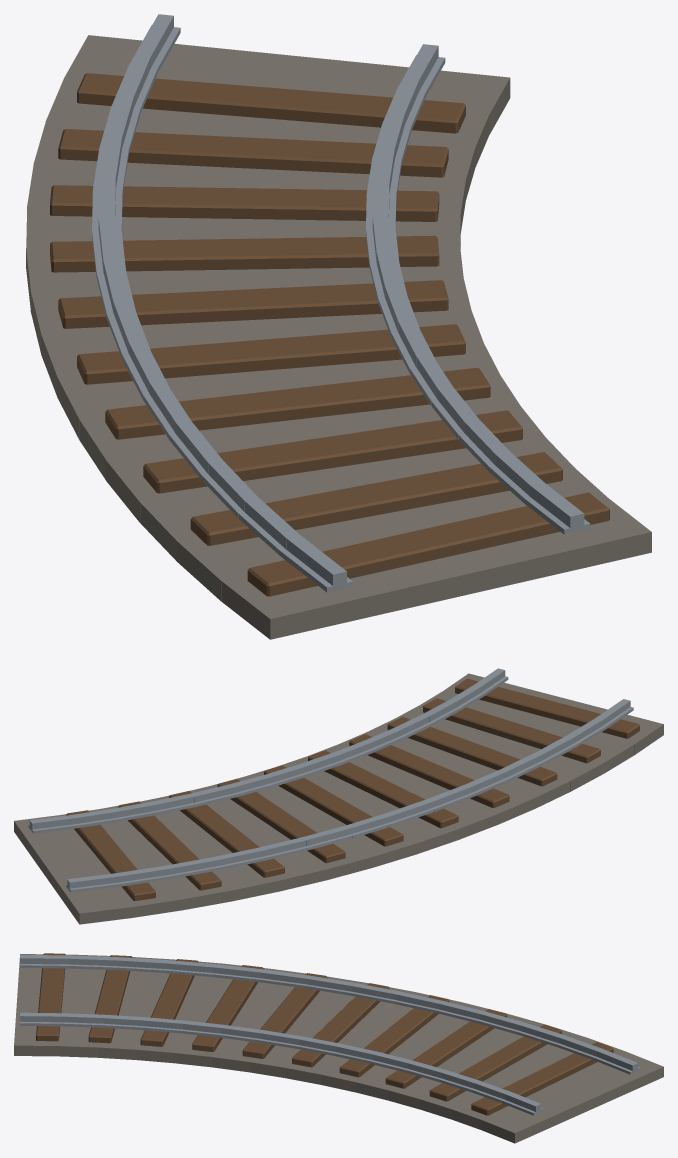
The model's file is rail_virage_45.glb.
3 views of the same model, one above another, from view 1: azimuth 30°, elevation 25°; view 2: azimuth 150°, elevation 25°; view 3: azimuth 270°, elevation 25° (orthographic). The views are drawn at different scales.
Visible parts, largest first — view 1: rail_ballast.010, rail_traverse.010, rail_rail.010; view 2: rail_ballast.010, rail_traverse.010, rail_rail.010; view 3: rail_ballast.010, rail_traverse.010, rail_rail.010.
Boxes of the visible parts, x1,y1,x2,y2 form: rail_ballast.010: (26, 35, 651, 639); rail_traverse.010: (50, 73, 609, 596); rail_rail.010: (92, 14, 590, 592); rail_ballast.010: (14, 673, 663, 924); rail_traverse.010: (66, 678, 639, 900); rail_rail.010: (28, 668, 633, 892); rail_ballast.010: (14, 954, 663, 1143); rail_traverse.010: (36, 953, 613, 1115); rail_rail.010: (20, 955, 640, 1115).
Size of what is drawn, in the model's own units: 1.86 by 0.12 by 2.85.
